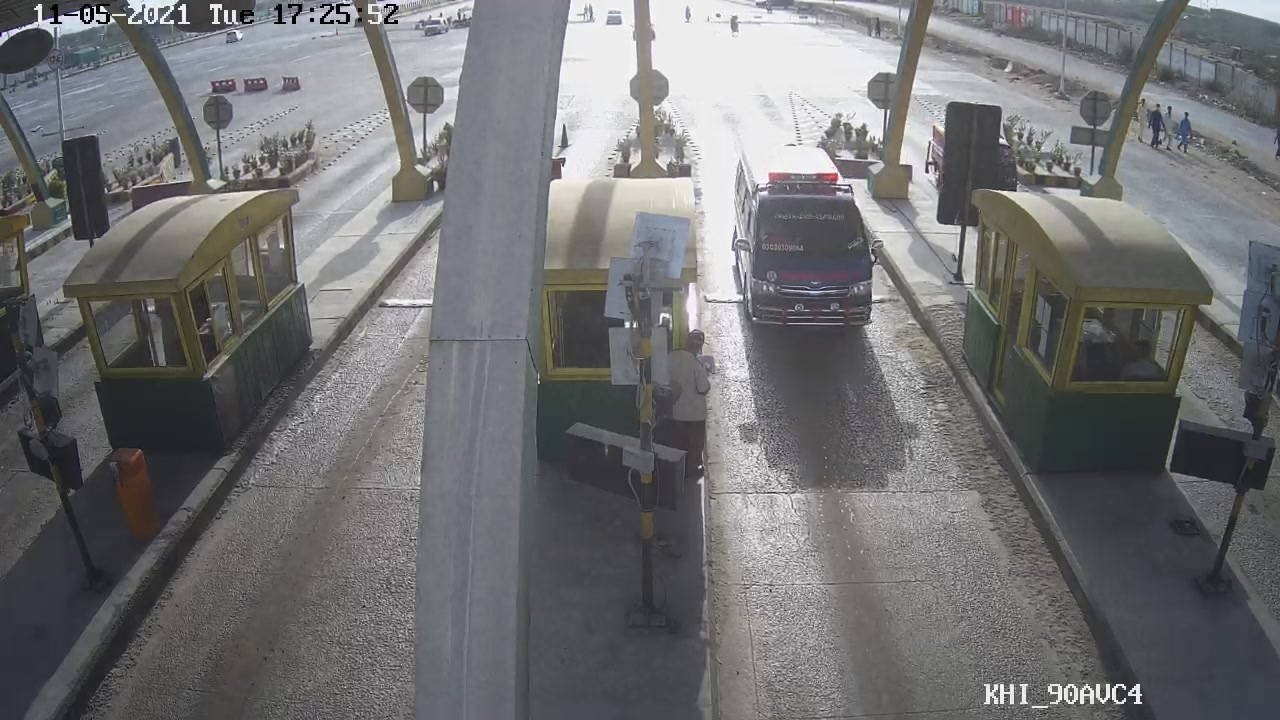F2: (728, 135, 880, 358)
